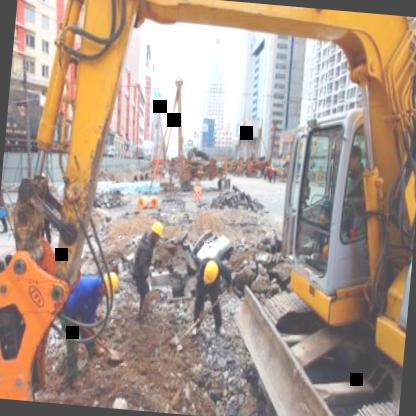helmet: (96, 269, 123, 304), (198, 258, 220, 290), (150, 219, 164, 243)
